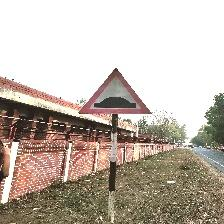Speed-breaker: (83, 64, 148, 113)
